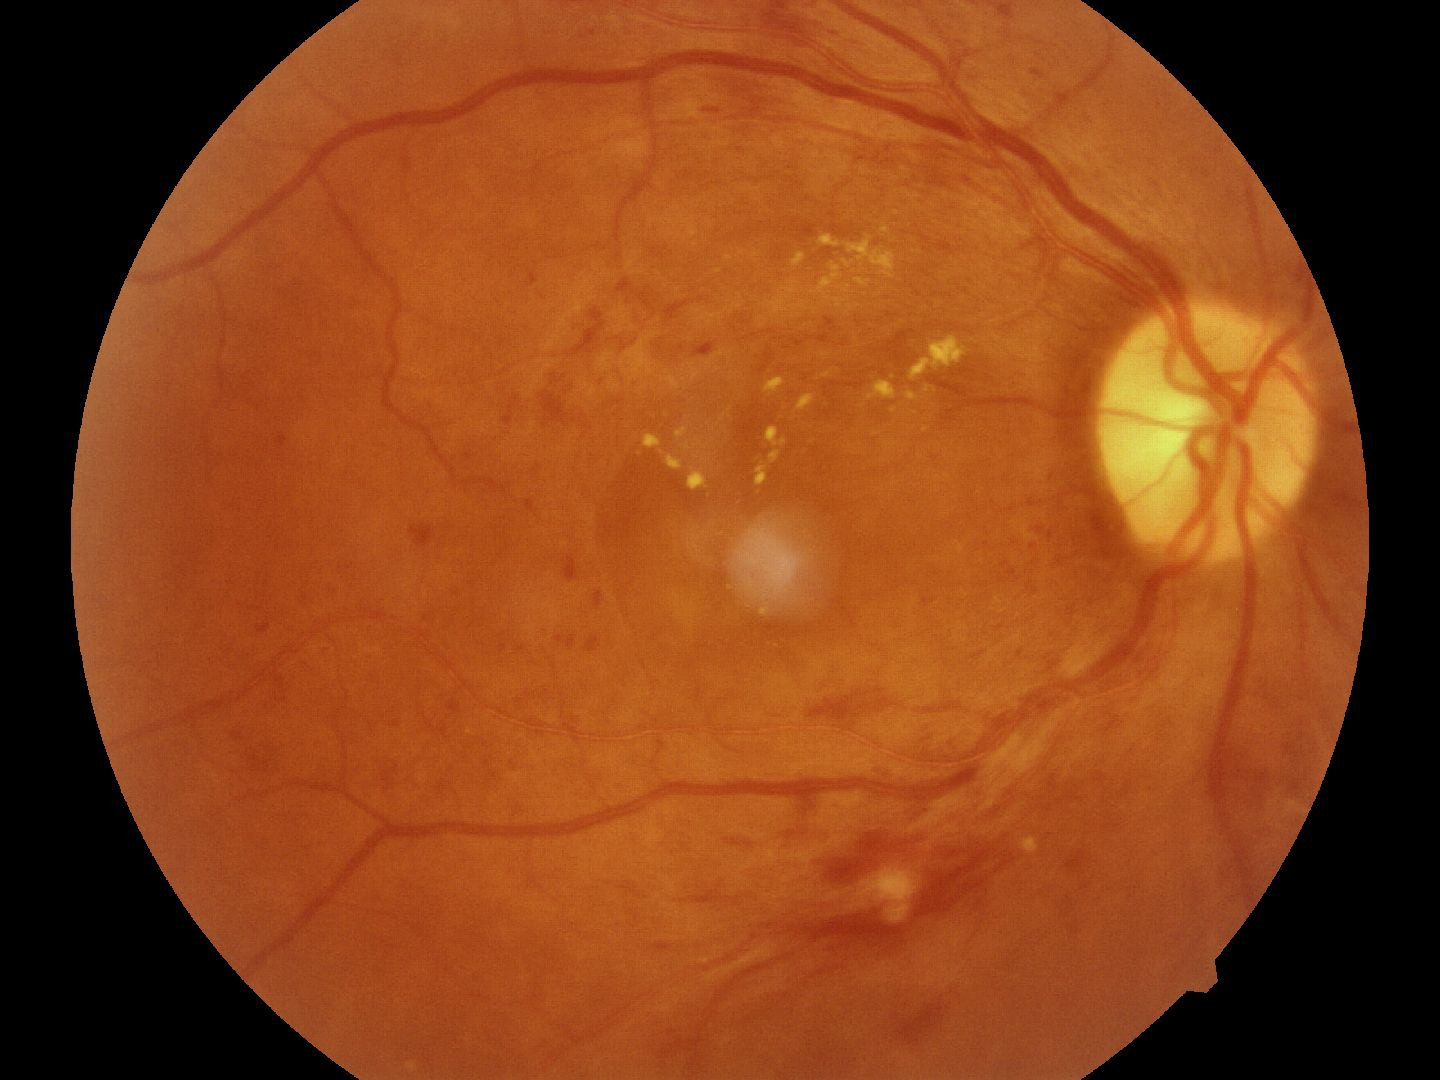Exudates: (819, 234, 979, 404), (641, 424, 796, 492)
Microaneurysms: (835, 830, 980, 952)
Optic-Disc: (1109, 286, 1307, 576)
Venules: (586, 31, 1069, 206), (564, 761, 963, 803)
